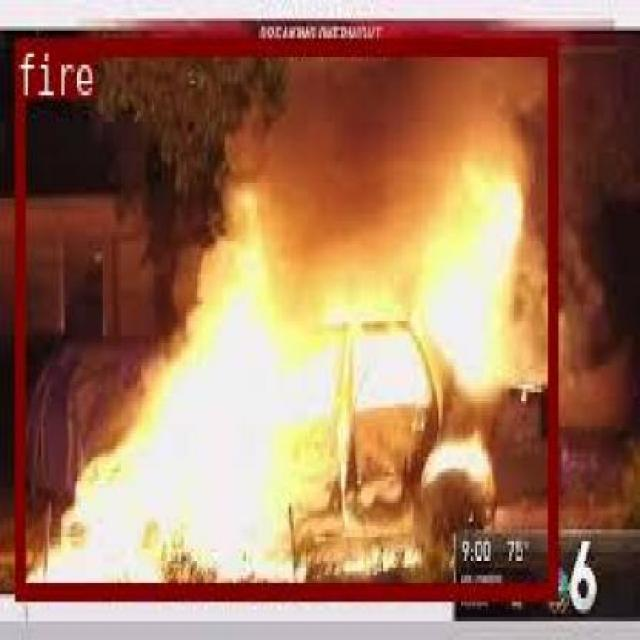fire: (14, 35, 554, 597)
